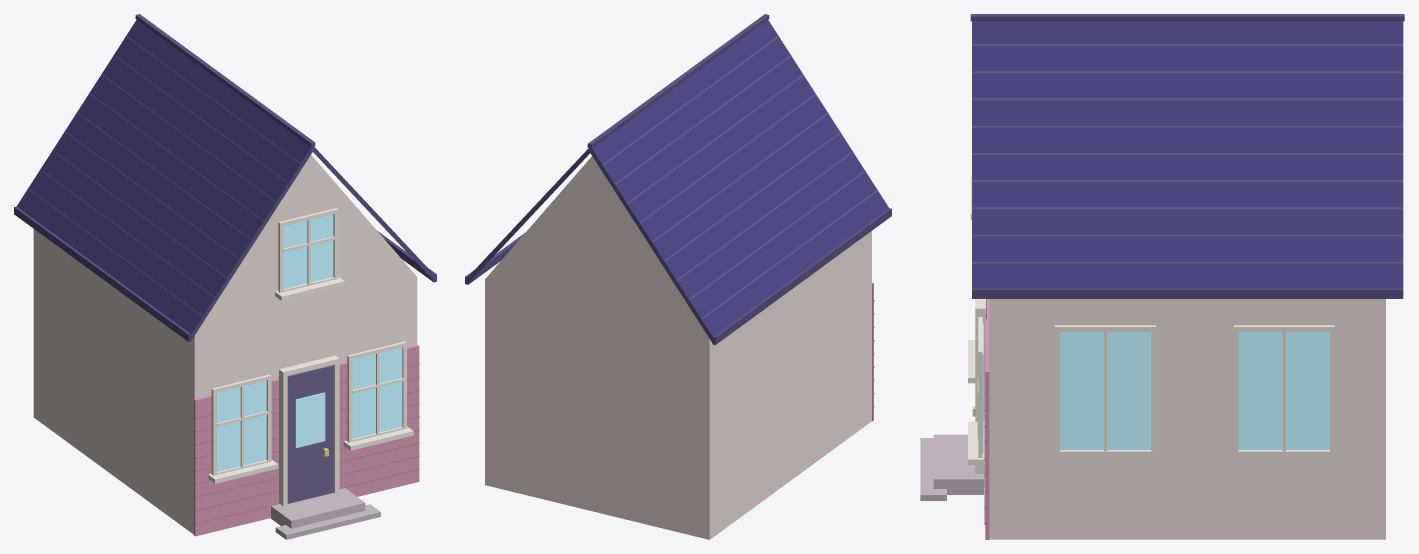
File: gable-house.glb
The picture shows the model from 3 angles, left to right: view 1: azimuth 30°, elevation 25°; view 2: azimuth 150°, elevation 25°; view 3: azimuth 270°, elevation 25°; orthographic projection. The views are drawn at different scales.
Visible parts, largest first — view 1: wall, roof, details, windows, door; view 2: wall, roof; view 3: roof, wall, windows, details.
Part boxes in pixels (<box>): wall: <box>33,155,419,536</box>; roof: <box>14,14,436,341</box>; details: <box>208,208,413,539</box>; windows: <box>217,214,402,471</box>; door: <box>287,365,333,503</box>; wall: <box>485,156,874,539</box>; roof: <box>465,14,891,344</box>; roof: <box>970,14,1404,298</box>; wall: <box>984,299,1385,539</box>; windows: <box>982,323,1329,453</box>; details: <box>920,176,1334,500</box>.
Bounding box in the file's own units: 2.67 × 3.81 × 3.66.
